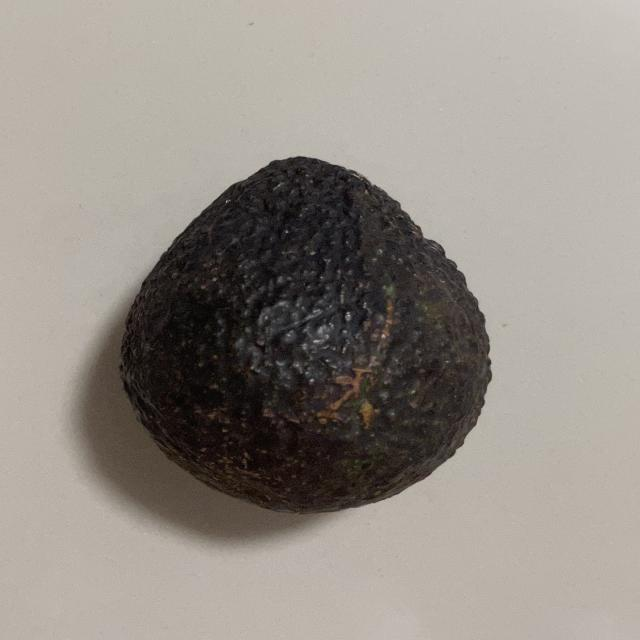Level2: (110, 146, 500, 519)
